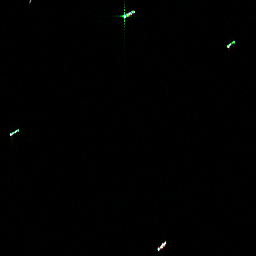ship: (120, 7, 137, 21), (155, 238, 168, 252), (224, 38, 237, 50), (8, 126, 20, 138)
